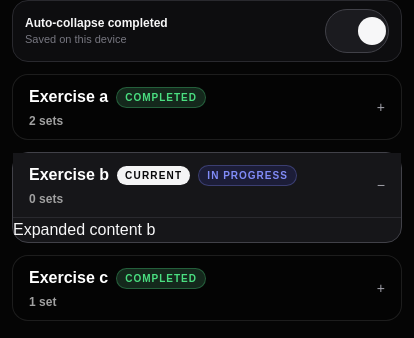
Scenario: WorkoutExerciseAccordion › expands only the current exercise and switches predictably
This screenshot has width=414, height=338.
Expected: the text "Expanded content b" is shown, [13,221,155,238]
Expected: the text "Expanded content a" is not shown
Step 1. Click the button "Exercise a Completed 2 sets +" → (207, 107), box [13,75,401,139]
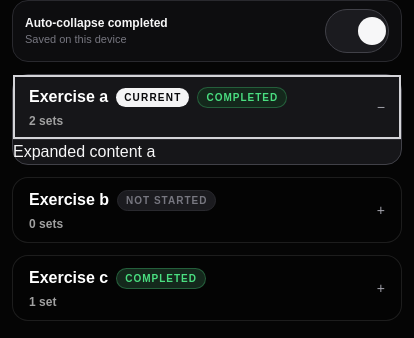
Expected: the button "Exercise a Current Completed 2 sets −" is expanded, [13,75,401,139]
Expected: the button "Exercise b Not started 0 sets +" is collapsed, [13,178,401,242]
Expected: the text "Expanded content a" is shown, [13,143,155,160]
